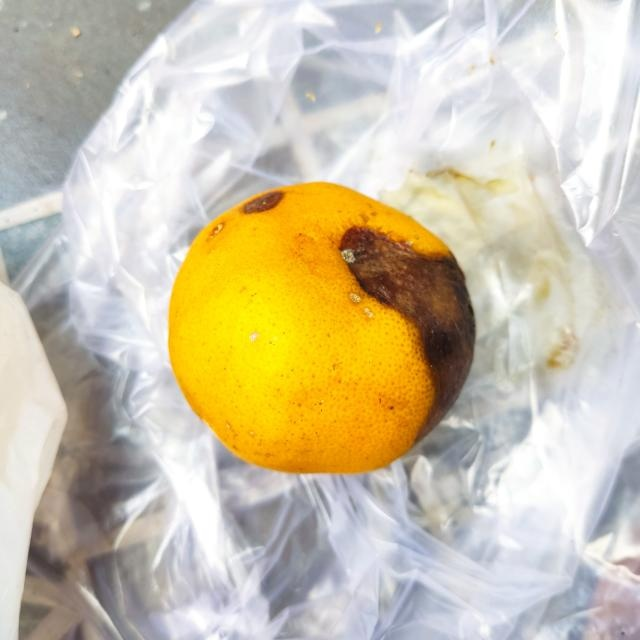agrume: (166, 181, 482, 475)
